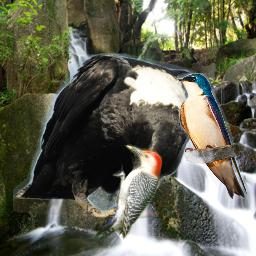Crow: (13, 50, 209, 223)
Swallow: (177, 73, 248, 199)
Woodpecker: (89, 141, 162, 246)
